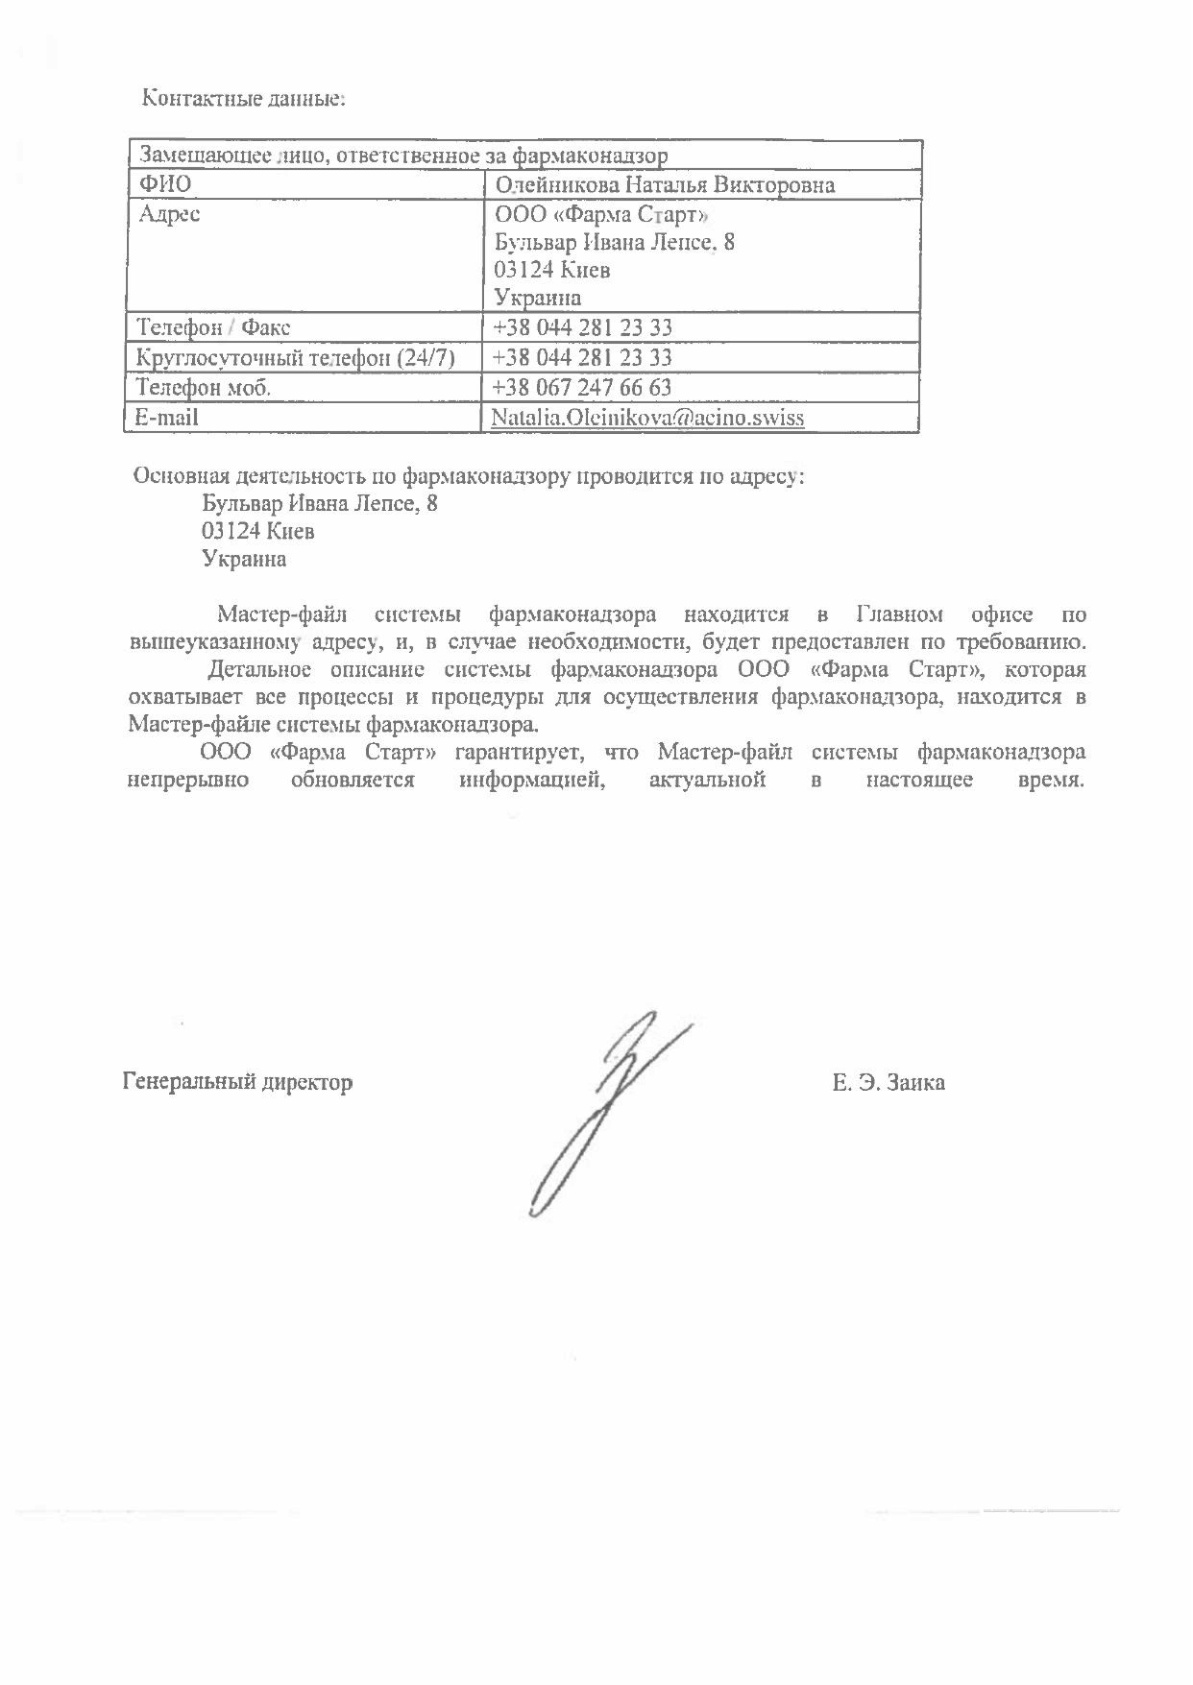full_lined: (121, 137, 924, 434)
